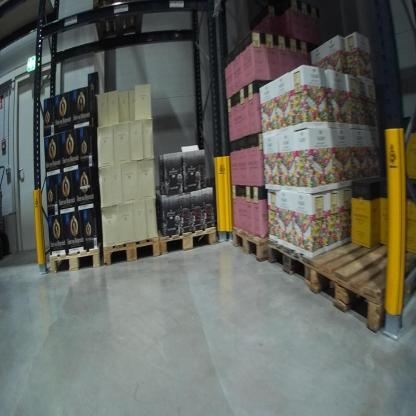pallets: (230, 228, 390, 334), (99, 228, 166, 272), (156, 225, 218, 255), (46, 247, 101, 273)
